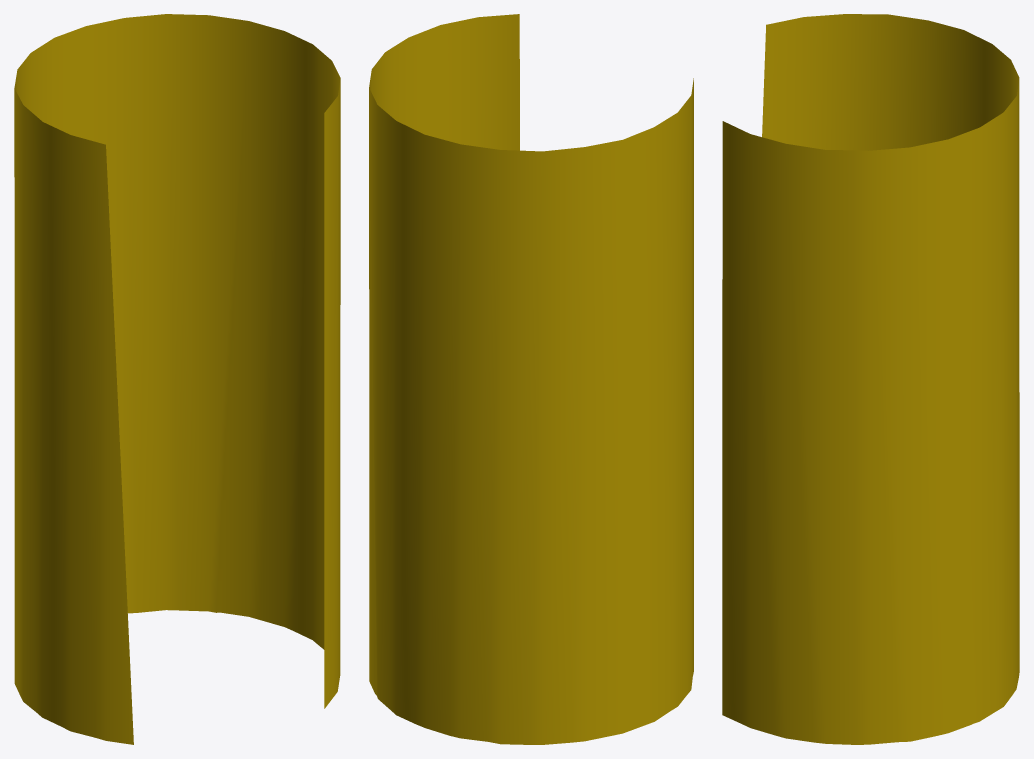
The model's file is original-3.obj.
3 renders of one model, left to right at view 1: azimuth 30°, elevation 25°; view 2: azimuth 150°, elevation 25°; view 3: azimuth 270°, elevation 25°, orthographic.
Visible parts, largest first — view 1: mesh3/mesh3-geometry#mesh3-geometry; view 2: mesh3/mesh3-geometry#mesh3-geometry; view 3: mesh3/mesh3-geometry#mesh3-geometry.
Boxes of the visible parts, x1,y1,x2,y2 form: mesh3/mesh3-geometry#mesh3-geometry: (14, 14, 340, 744); mesh3/mesh3-geometry#mesh3-geometry: (369, 14, 693, 744); mesh3/mesh3-geometry#mesh3-geometry: (722, 14, 1019, 744).
Bounding box in the file's own units: 0.0859 × 0.1735 × 0.0786.
